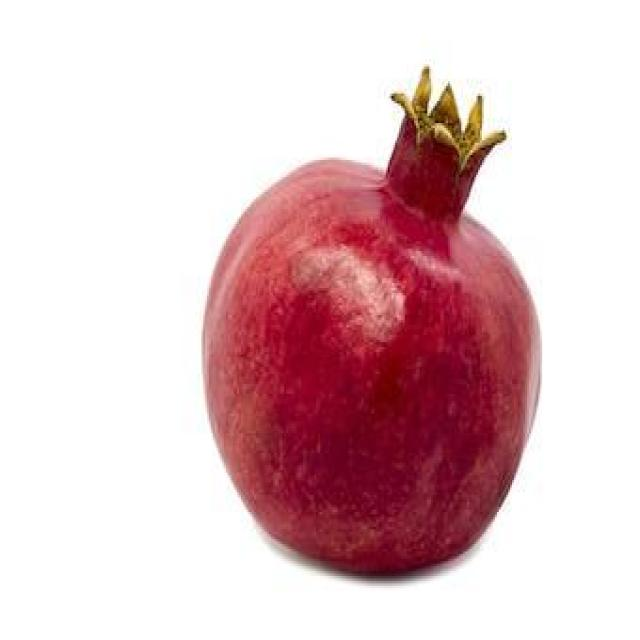Pomegranate: (198, 62, 543, 578)
